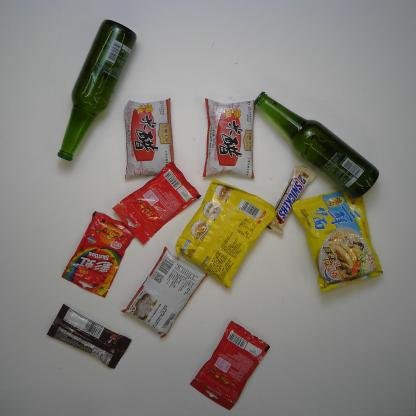Alcohol: (255, 90, 381, 196), (54, 19, 138, 161)
Candy: (188, 321, 270, 413), (112, 161, 199, 245), (60, 210, 136, 297)
Chocolate: (43, 302, 134, 369), (263, 164, 317, 235)
Instant Noodles: (175, 178, 280, 291), (292, 185, 382, 291)
Seasoner: (119, 247, 211, 338), (203, 96, 258, 178), (123, 97, 177, 178)
